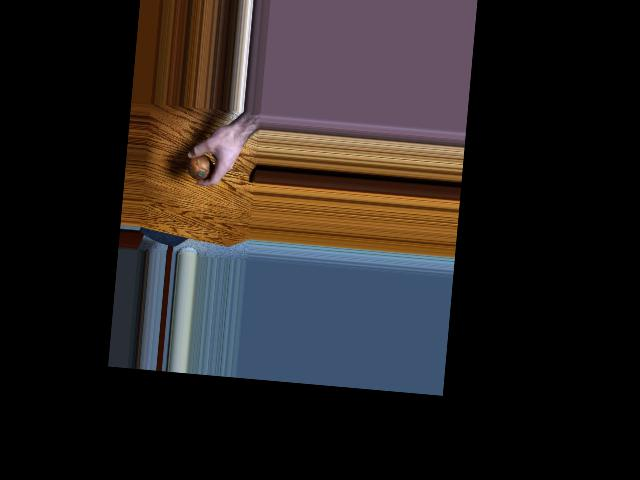onion: (187, 150, 218, 183)
